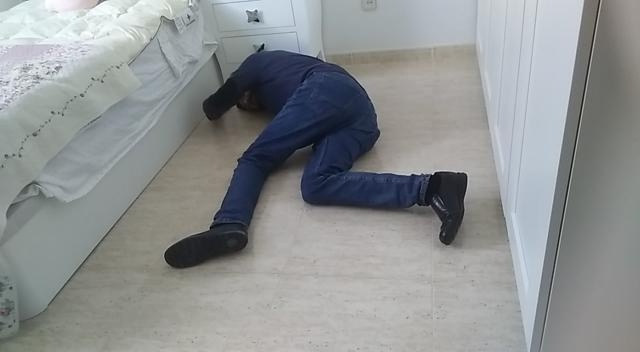fall: (160, 39, 483, 272)
